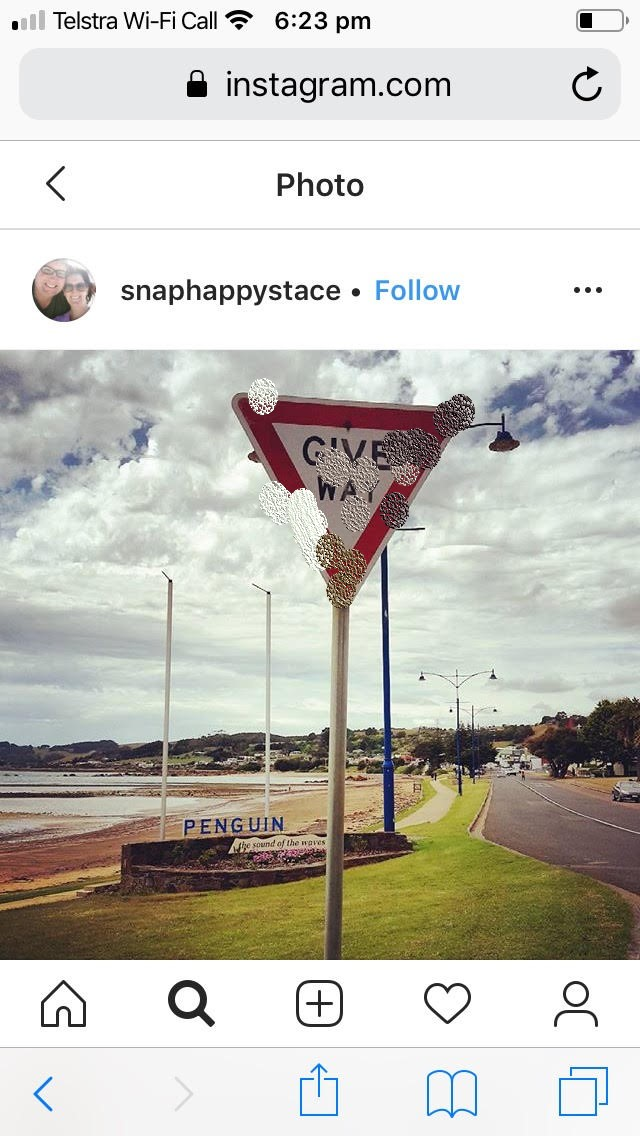giveway: (219, 376, 458, 603), (250, 409, 430, 572)
